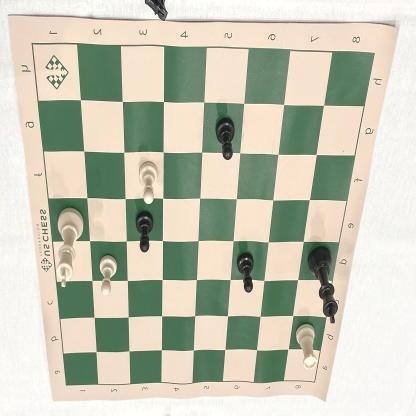black-king: (304, 245, 340, 327)
black-pawn: (231, 248, 257, 300), (133, 208, 156, 260), (214, 116, 237, 163)
white-king: (48, 203, 90, 292)
white-pawn: (95, 248, 121, 299), (135, 157, 160, 209)
white-rook: (291, 320, 318, 377)
